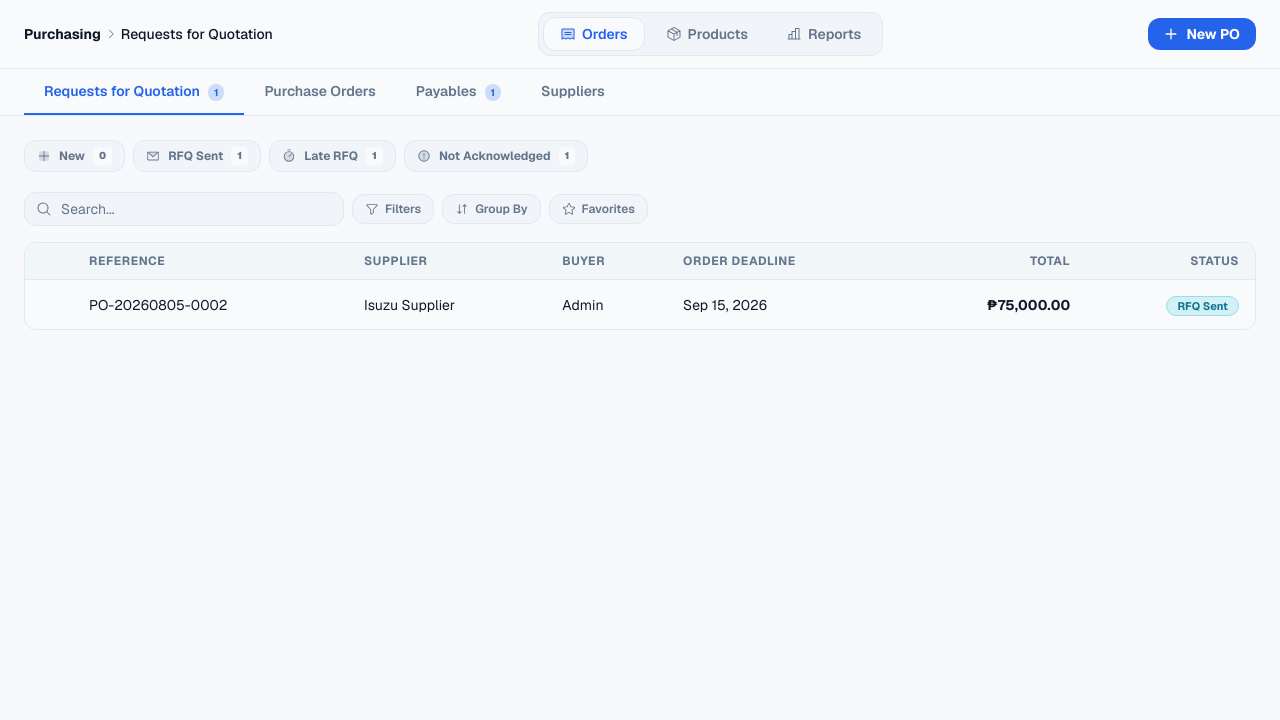
Scenario: PurchasingModule RFQ and PO behavior › shows an editable payment deadline input when viewing a draft or RFQ Sent PO
The width and height of the screenshot is (1280, 720).
Click the text "PO-20260805-0002": (211, 304) [73,280,348,329]
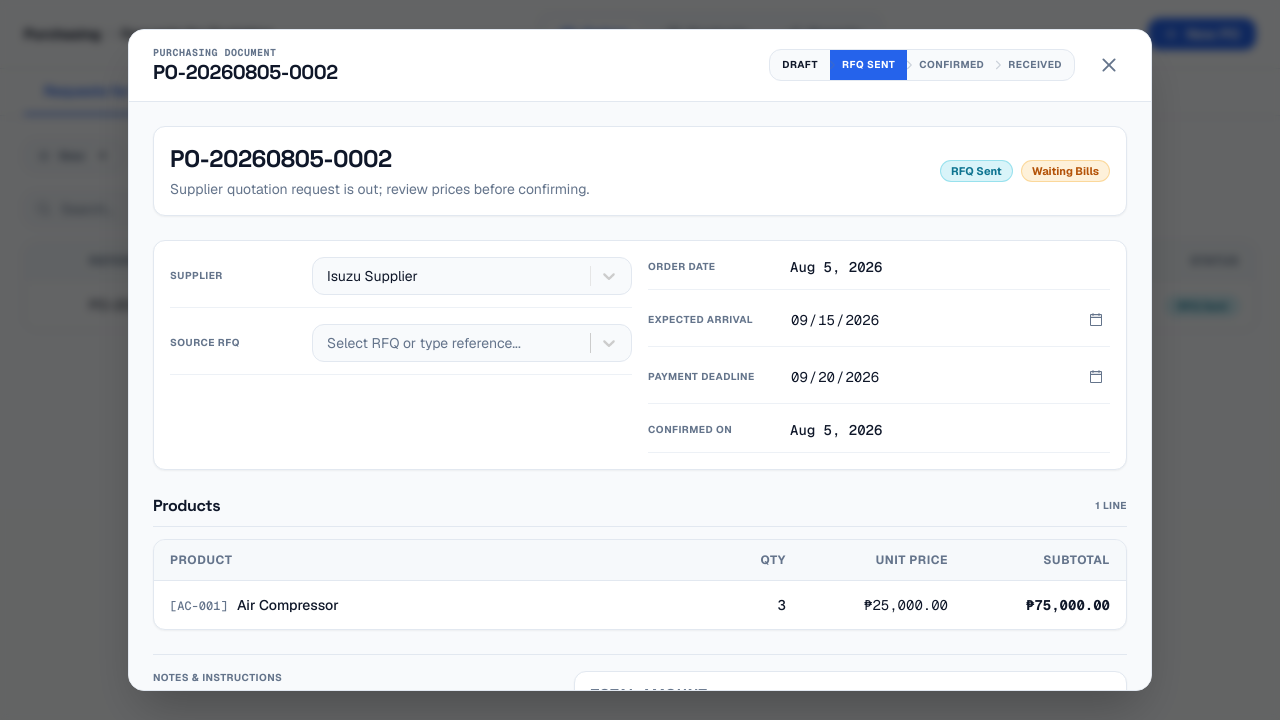
Check: the date field labelled "Payment Deadline" is enabled, box [790,366,1074,388]
Check: the date field labelled "Payment Deadline" holds "2026-09-20", box [790,366,1074,388]
